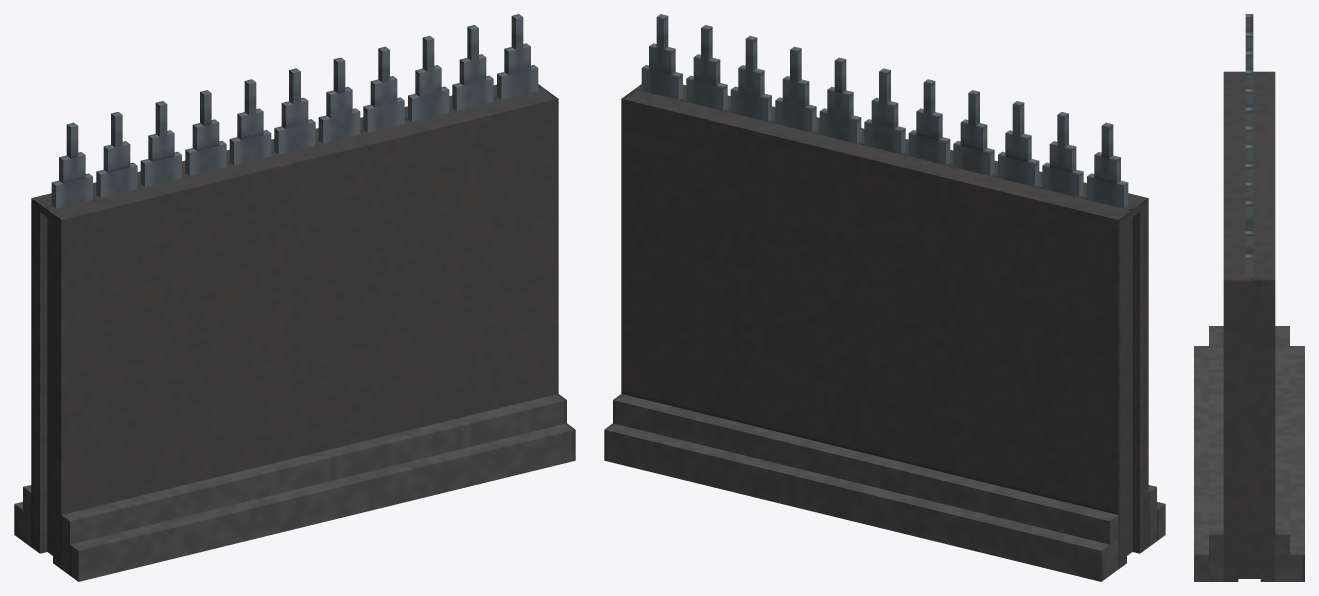
The model's file is mury_getta_kolce.dae.
The picture shows the model from 3 angles, left to right: view 1: azimuth 30°, elevation 25°; view 2: azimuth 150°, elevation 25°; view 3: azimuth 270°, elevation 25°; orthographic projection. The views are drawn at different scales.
Visible parts, largest first — view 1: Content; view 2: Content; view 3: Content.
Part boxes in pixels (x1,y1,x2,y2): Content: [14, 14, 575, 581]; Content: [604, 14, 1165, 581]; Content: [1194, 14, 1304, 581].
Bounding box in the file's own units: 67 × 55 × 15.
1 material, 1 textured.
